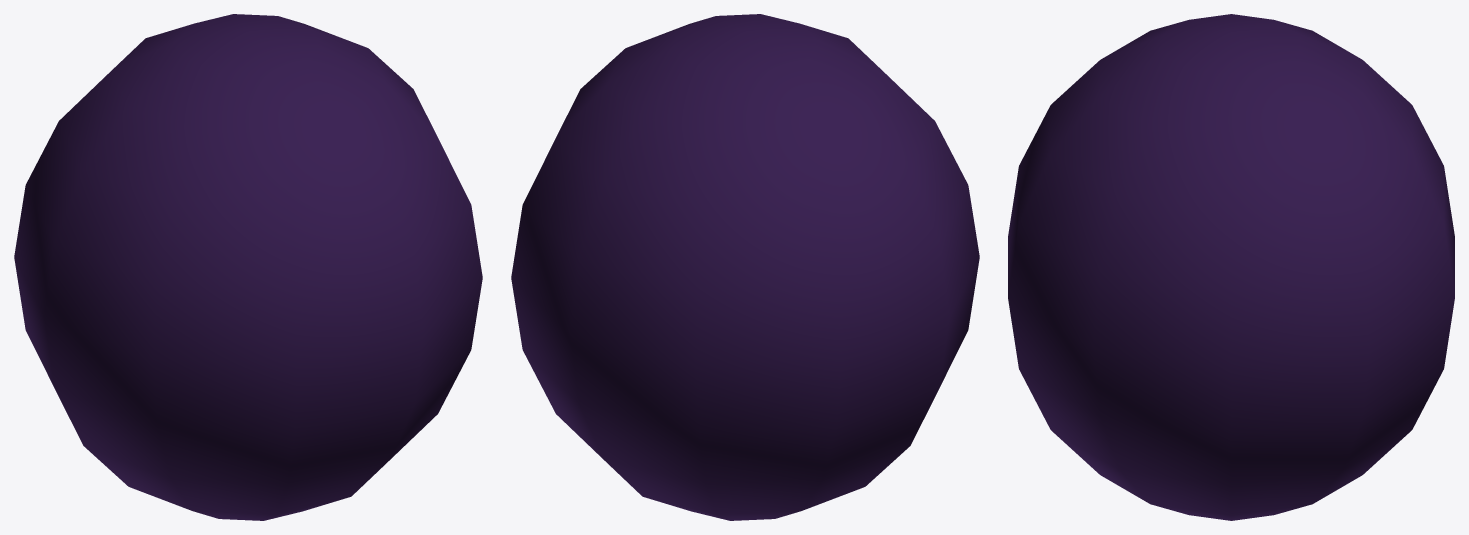
Rendered from velumosa_stage2.obj.
3 renders of one model, left to right at view 1: azimuth 30°, elevation 25°; view 2: azimuth 150°, elevation 25°; view 3: azimuth 270°, elevation 25°, orthographic.
Bounding box in the file's own units: 2 × 2.2 × 1.9.
